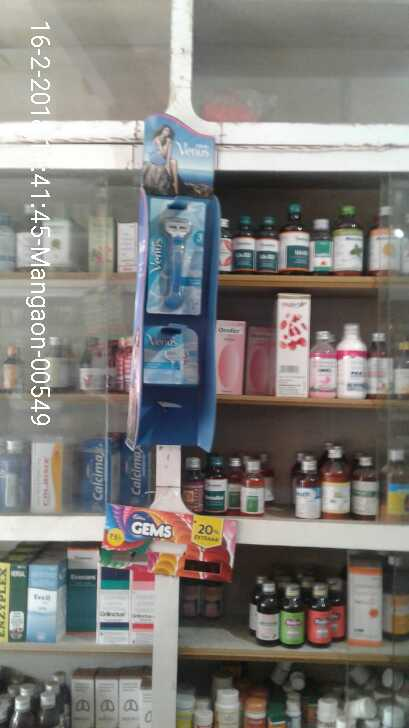beauty: (147, 191, 207, 319), (144, 327, 202, 385)
